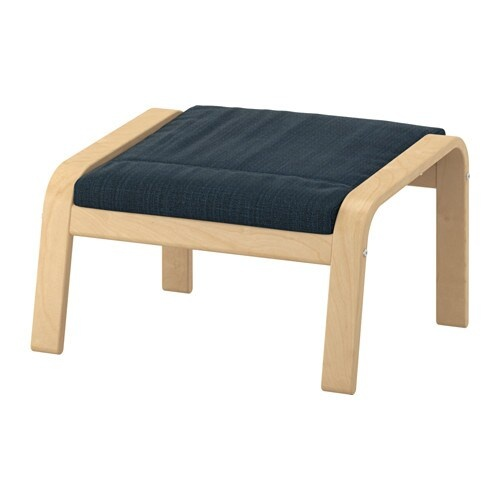obstacle: (31, 106, 467, 393)
